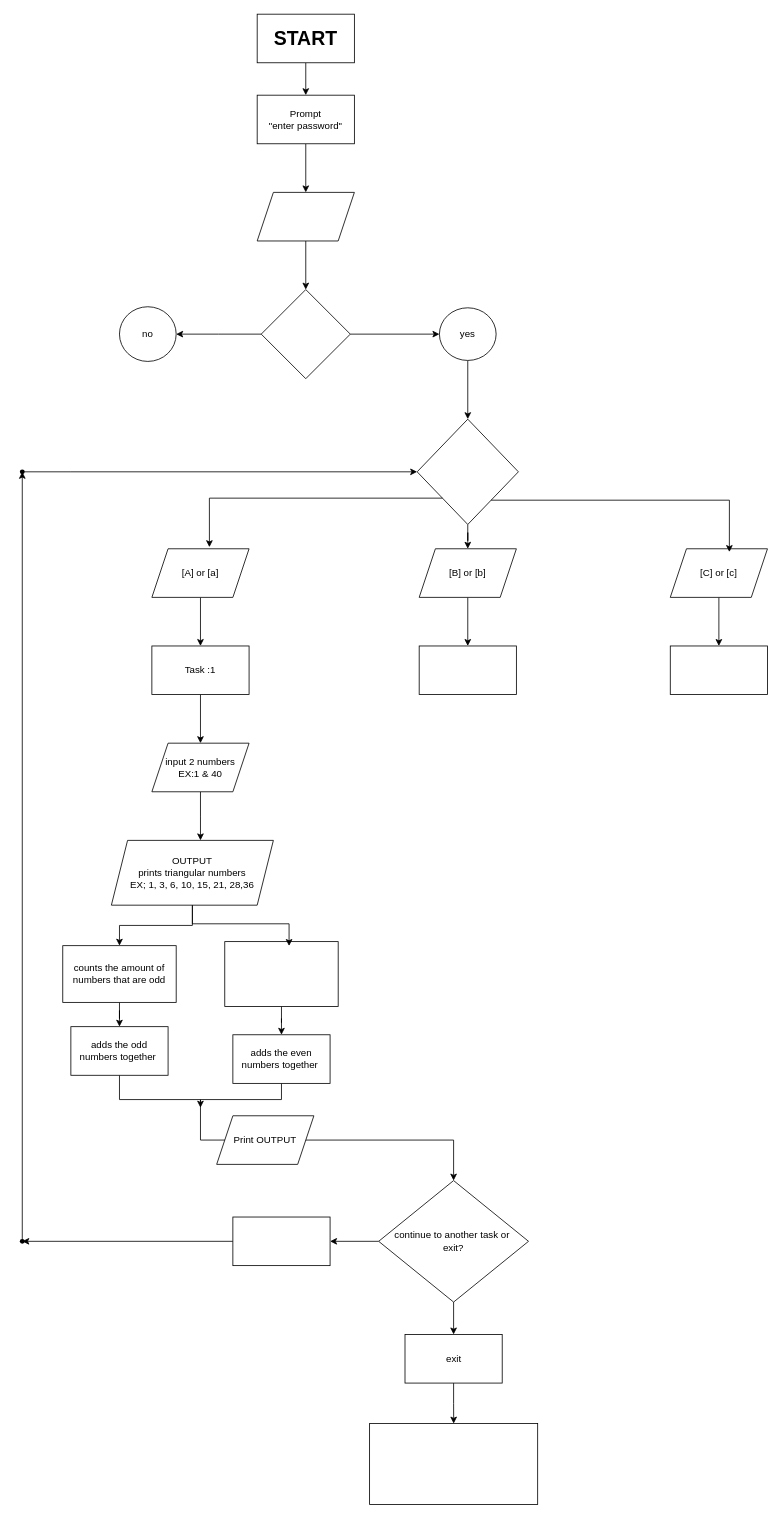
This 782x1519 diagram has some shape labels left out. Each missing label, with the centre of its shape:
Continue: the point at 281,1241
counts the amount of numbers that are even: the point at 281,973
input password: the point at 305,216
Is password ccorrect?: the point at 305,334
Menu: [a] [b] [c]: the point at 467,471
STOP: the point at 453,1464
Task: 2: the point at 467,670
Task: 3: the point at 718,670
